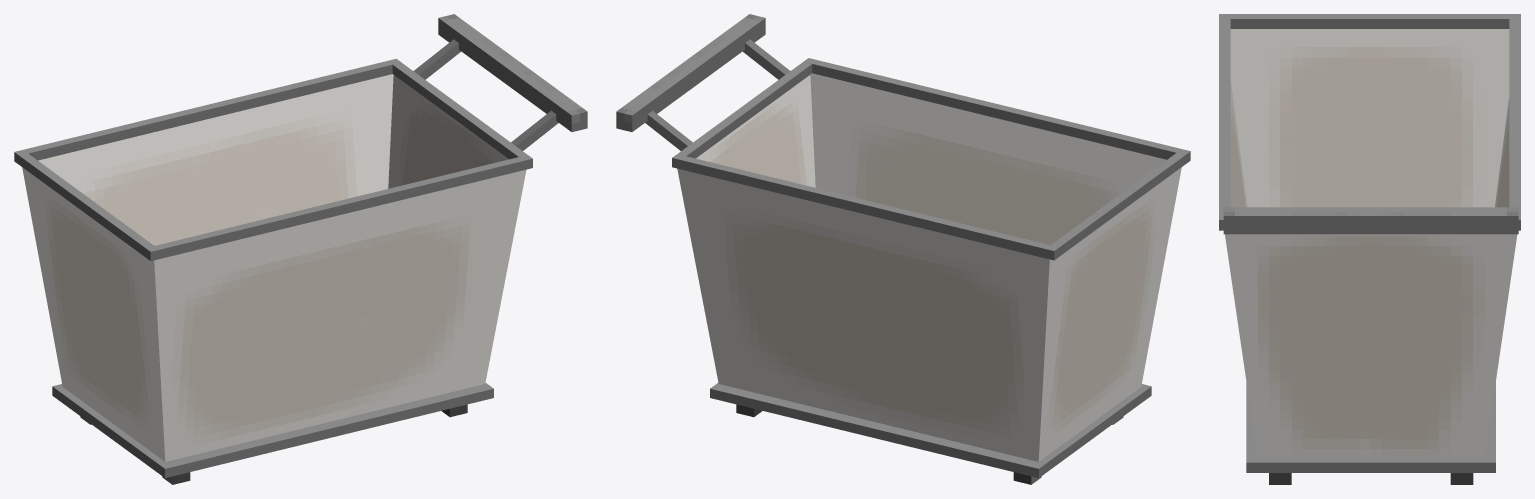
Rendered from Mail Cart.gltf.
3 views of the same model, side by side, from view 1: azimuth 30°, elevation 25°; view 2: azimuth 150°, elevation 25°; view 3: azimuth 270°, elevation 25° (orthographic). The views are drawn at different scales.
Visible parts, largest first — view 1: mesh, cube (×8); view 2: mesh, cube (×8); view 3: mesh, cube (×5).
Boxes of the visible parts, left/top/right/bottom form: mesh: left=22, top=74, right=526, bottom=461; cube (×8): left=14, top=14, right=587, bottom=477; mesh: left=677, top=73, right=1181, bottom=461; cube (×8): left=616, top=14, right=1190, bottom=477; mesh: left=1225, top=29, right=1517, bottom=458; cube (×5): left=1219, top=14, right=1520, bottom=472.
Bounding box in the file's own units: 0.7719 × 0.4906 × 0.4158.
1 material, 1 textured.
